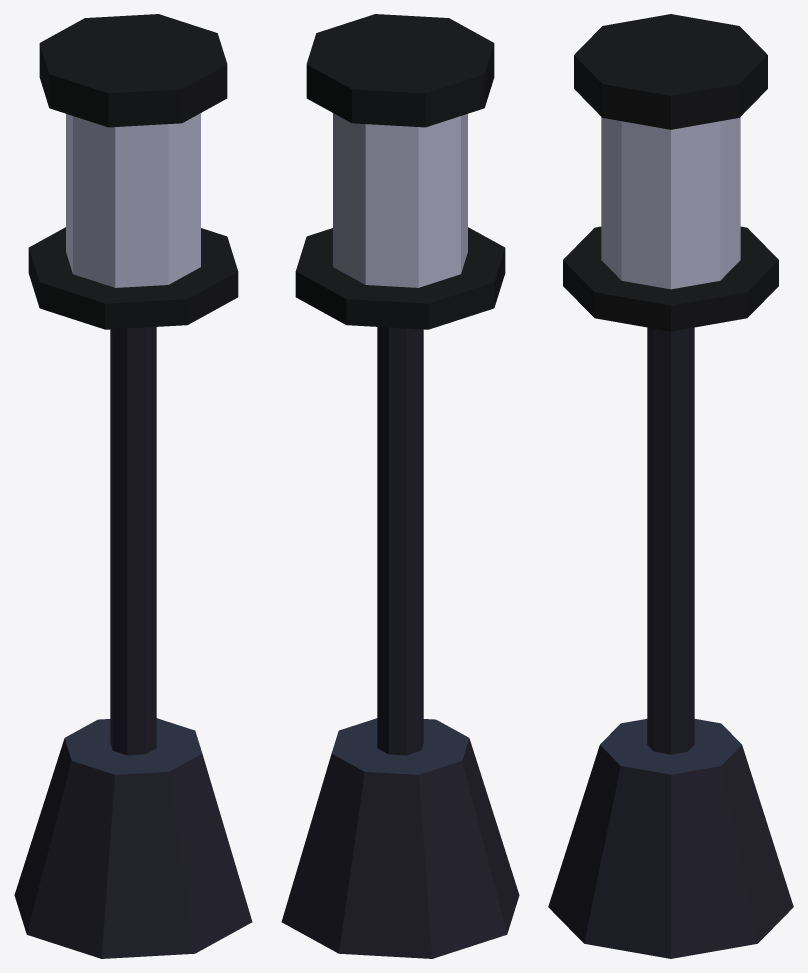
Rendered from POSTE LUZ.fbx.
3 renders of one model, left to right at view 1: azimuth 30°, elevation 25°; view 2: azimuth 150°, elevation 25°; view 3: azimuth 270°, elevation 25°, orthographic.
Visible parts, largest first — view 1: Circle; view 2: Circle; view 3: Circle.
Part boxes in pixels (left/top/right/bottom): Circle: left=14, top=14, right=252, bottom=958; Circle: left=281, top=14, right=519, bottom=958; Circle: left=548, top=14, right=793, bottom=958.
Size of the model in its own units: 200 by 766 by 200.
